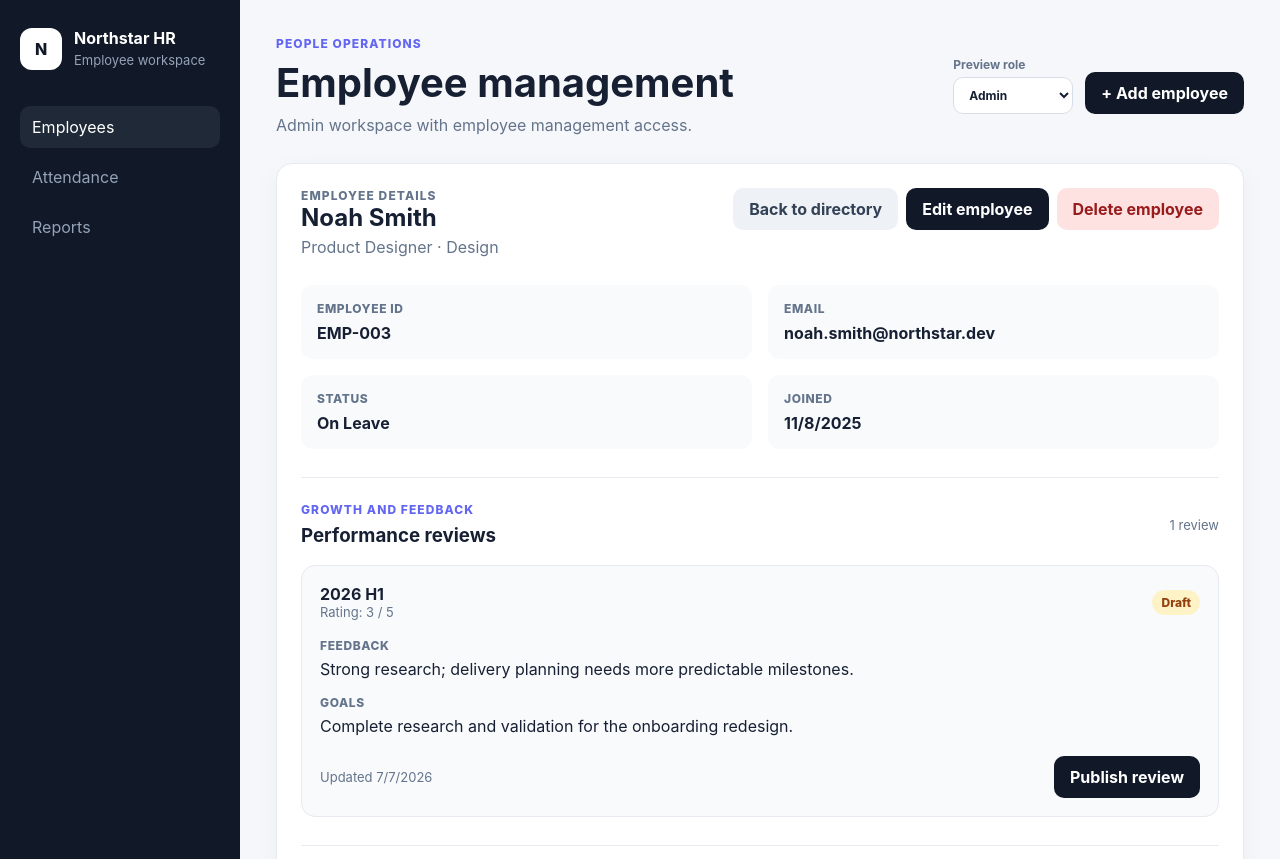
Test: shows employee reviews and lets admins publish a draft
Expected: the heading "Noah Smith" is shown, [301,203,437,232]
Expected: the heading "Performance reviews" is shown, [301,524,496,547]
Click the button with aria-label "publish 2026 h1 review". click: point(1127, 777)
box: [1054,756,1200,798]
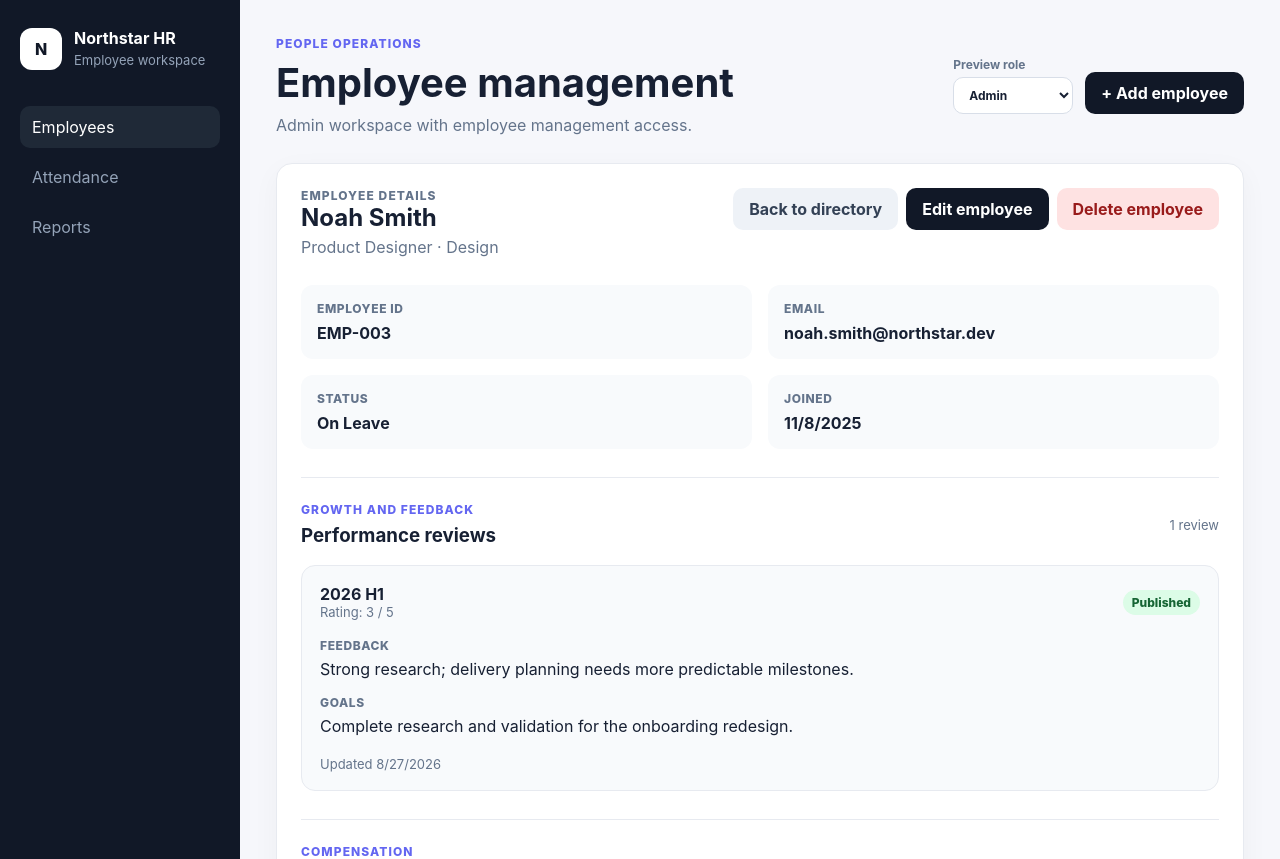
Expected: the text "Published" is shown, [1123,590,1200,614]
